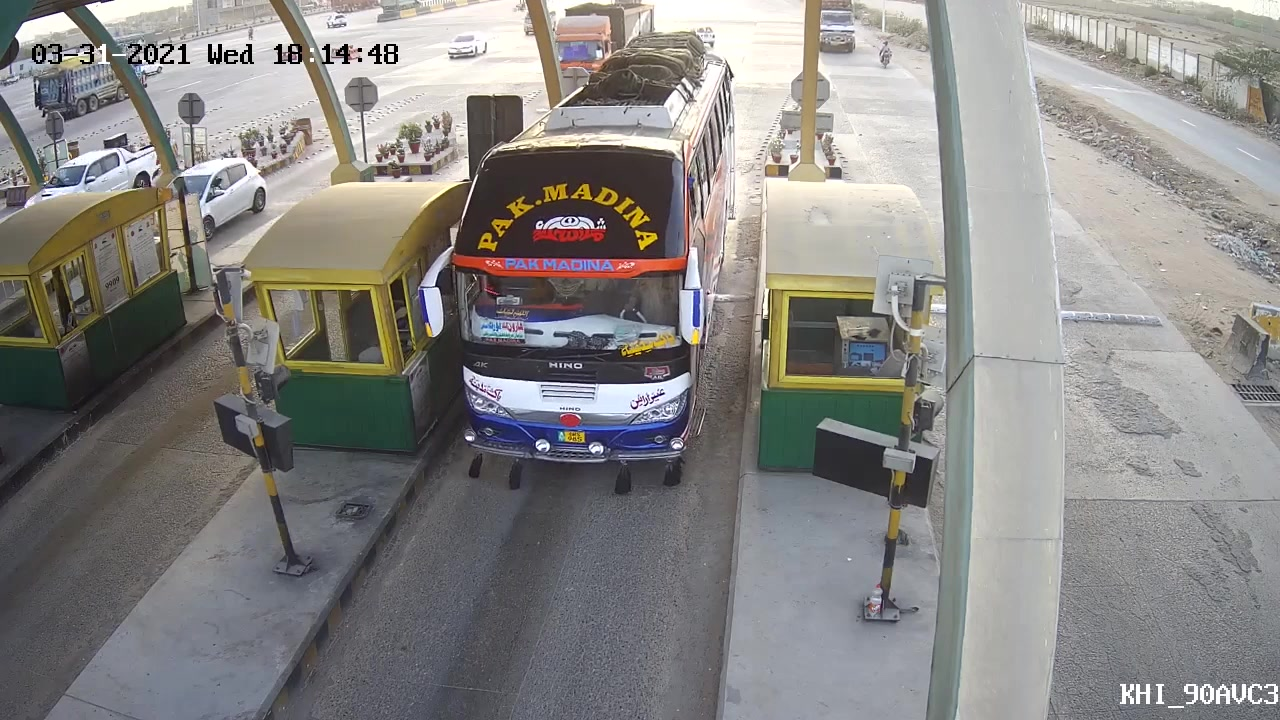F4: (415, 87, 742, 491)
